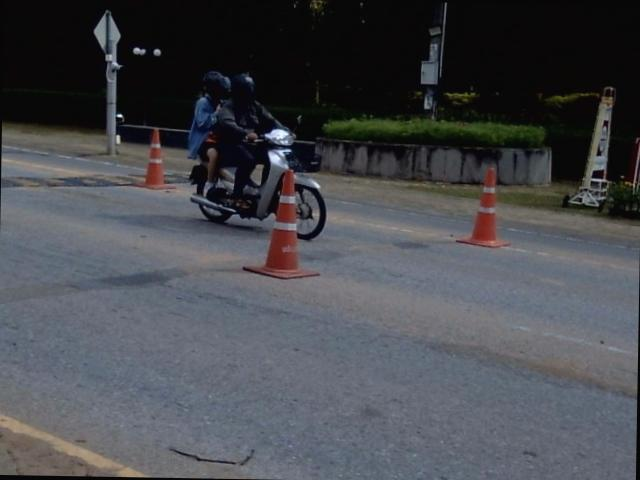helmet: (232, 72, 261, 104), (204, 70, 230, 100)
motor: (191, 128, 319, 221), (294, 173, 326, 239)
person: (216, 73, 286, 207), (187, 71, 230, 193)
